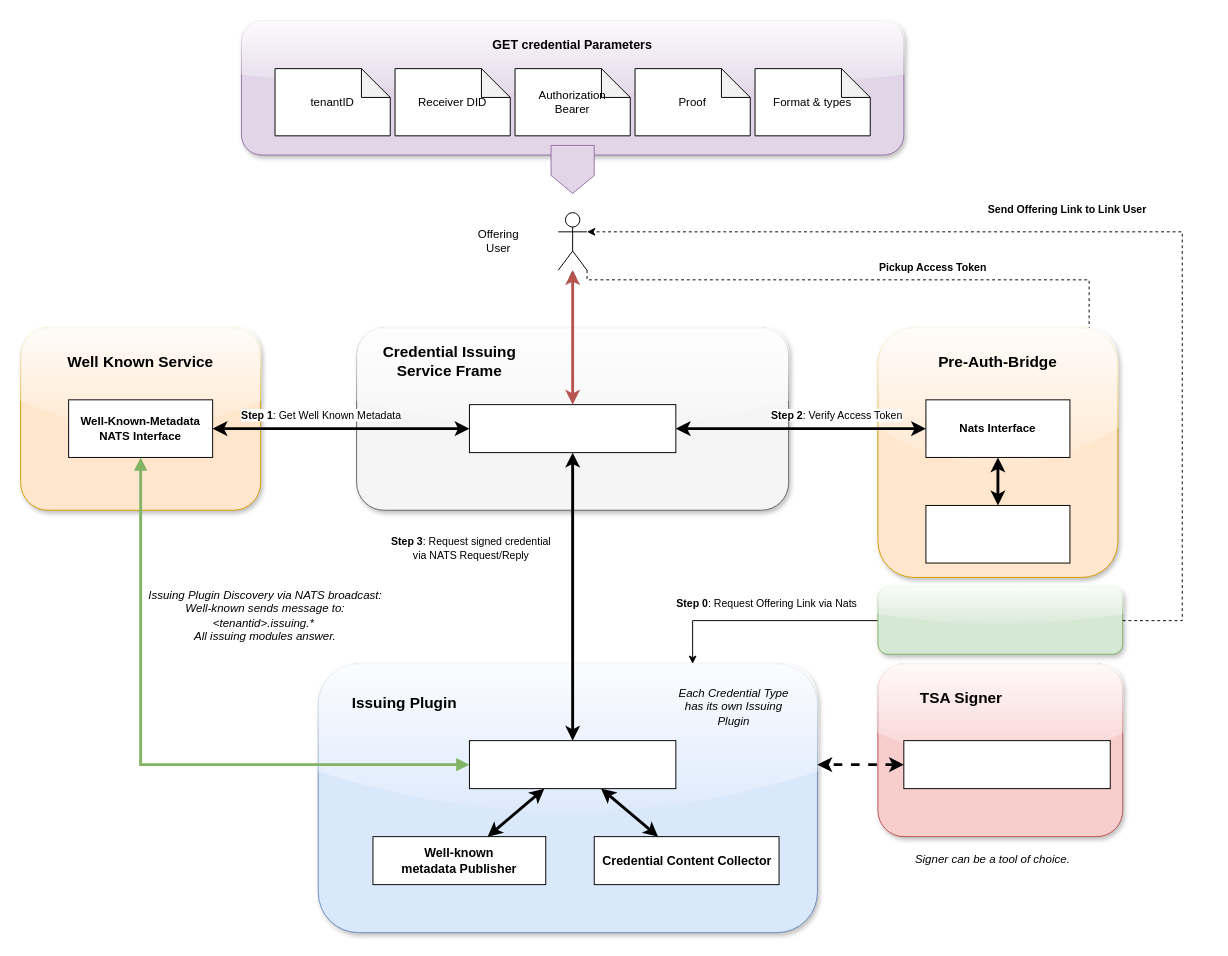
Image size: 1228x956. Some labels were removed from this diagram. Here are the shapes that lost their labels. From the top down, the centre of each, then its label:
At (572,428): "GET /:tenantid/credential REST Endpoint".
At (997,533): "Token Issuer Server".
At (1000,621): "Application".
At (572,764): "NATS Event Listener".
At (1006,764): "Signing endpoint".
